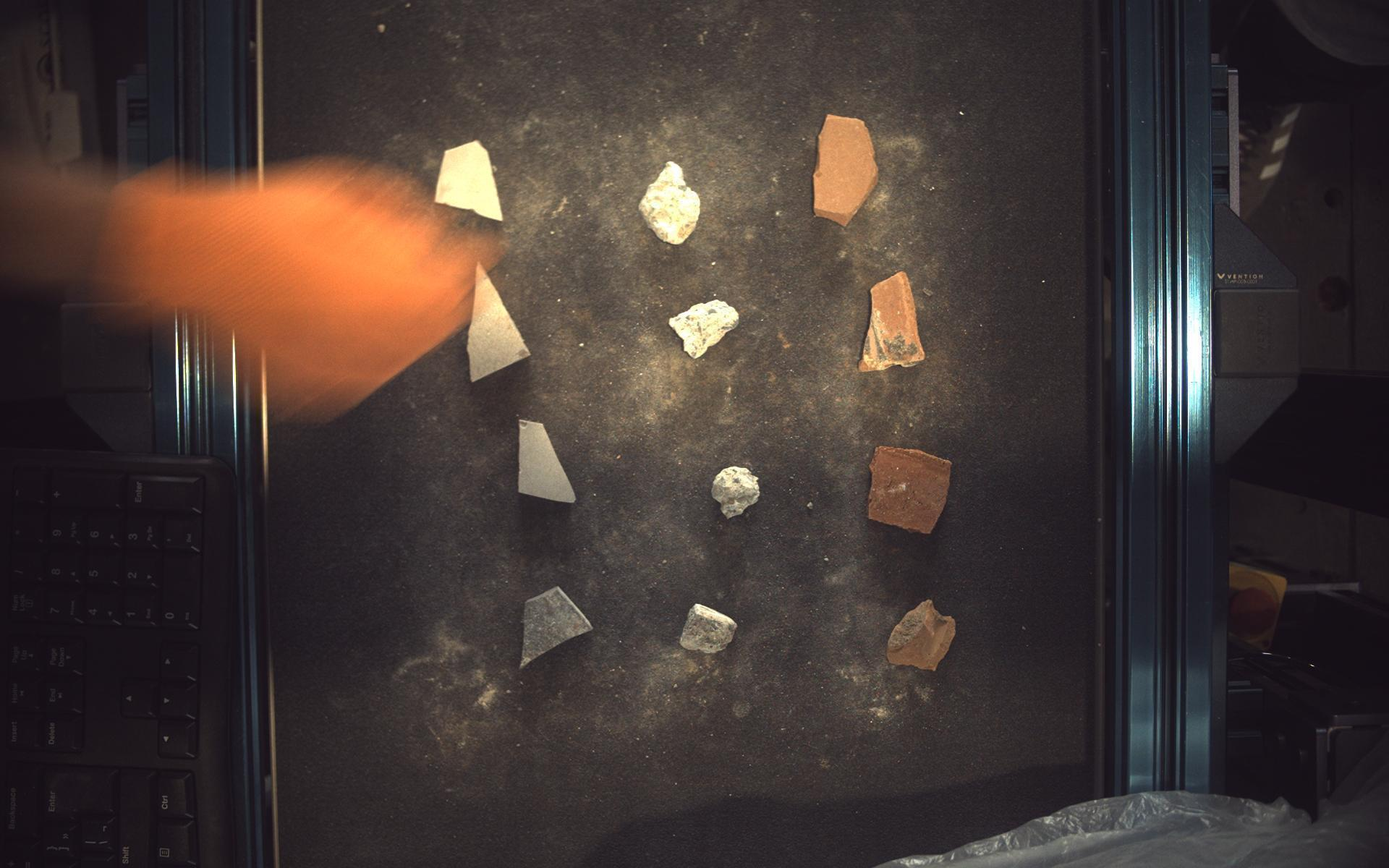brick: (870, 447, 953, 535), (815, 114, 880, 225), (861, 271, 927, 372), (888, 600, 958, 671)
concrete: (640, 160, 701, 244), (670, 299, 739, 358), (681, 604, 738, 655), (713, 467, 761, 519)
tile: (467, 264, 530, 382), (521, 588, 592, 668), (436, 140, 503, 221), (519, 420, 577, 503)
